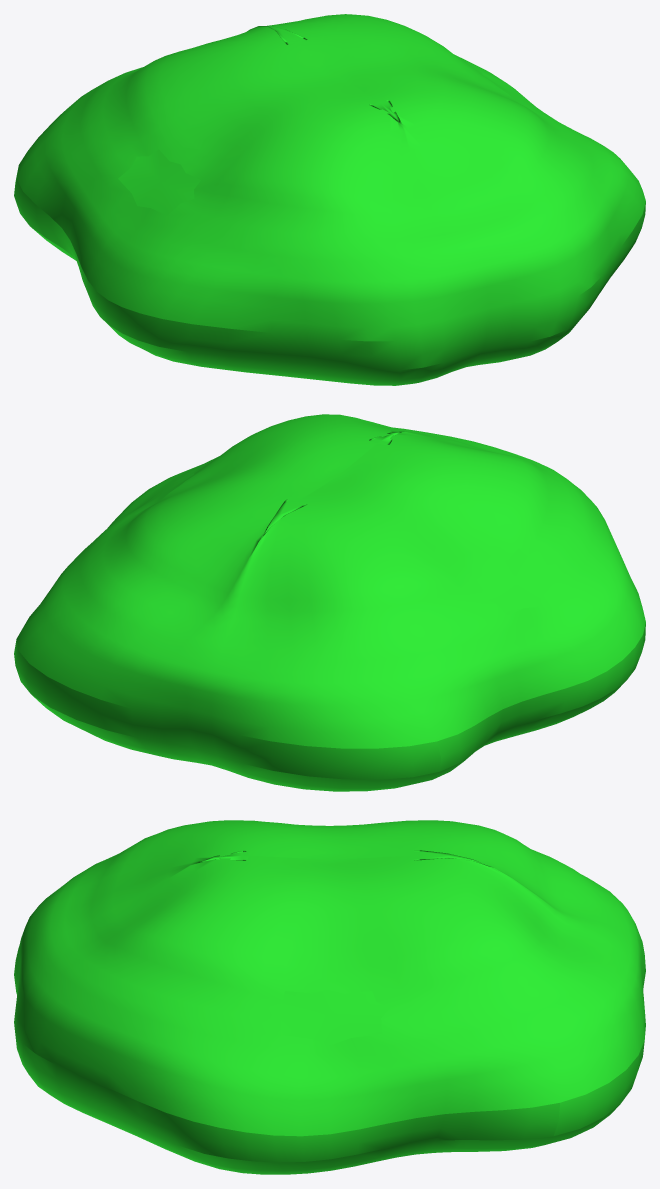
Rendered from slaymparca1.fbx.
3 views of the same model, one above another, from view 1: azimuth 30°, elevation 25°; view 2: azimuth 150°, elevation 25°; view 3: azimuth 270°, elevation 25° (orthographic). The views are drawn at different scales.
Parts seen in each view (by area): view 1: Sphere.003; view 2: Sphere.003; view 3: Sphere.003.
Boxes of the visible parts, <box> form: Sphere.003: <box>14,14,645,385</box>; Sphere.003: <box>14,414,645,791</box>; Sphere.003: <box>14,820,645,1174</box>.
Bounding box in the file's own units: 91.46 × 222 × 228.
